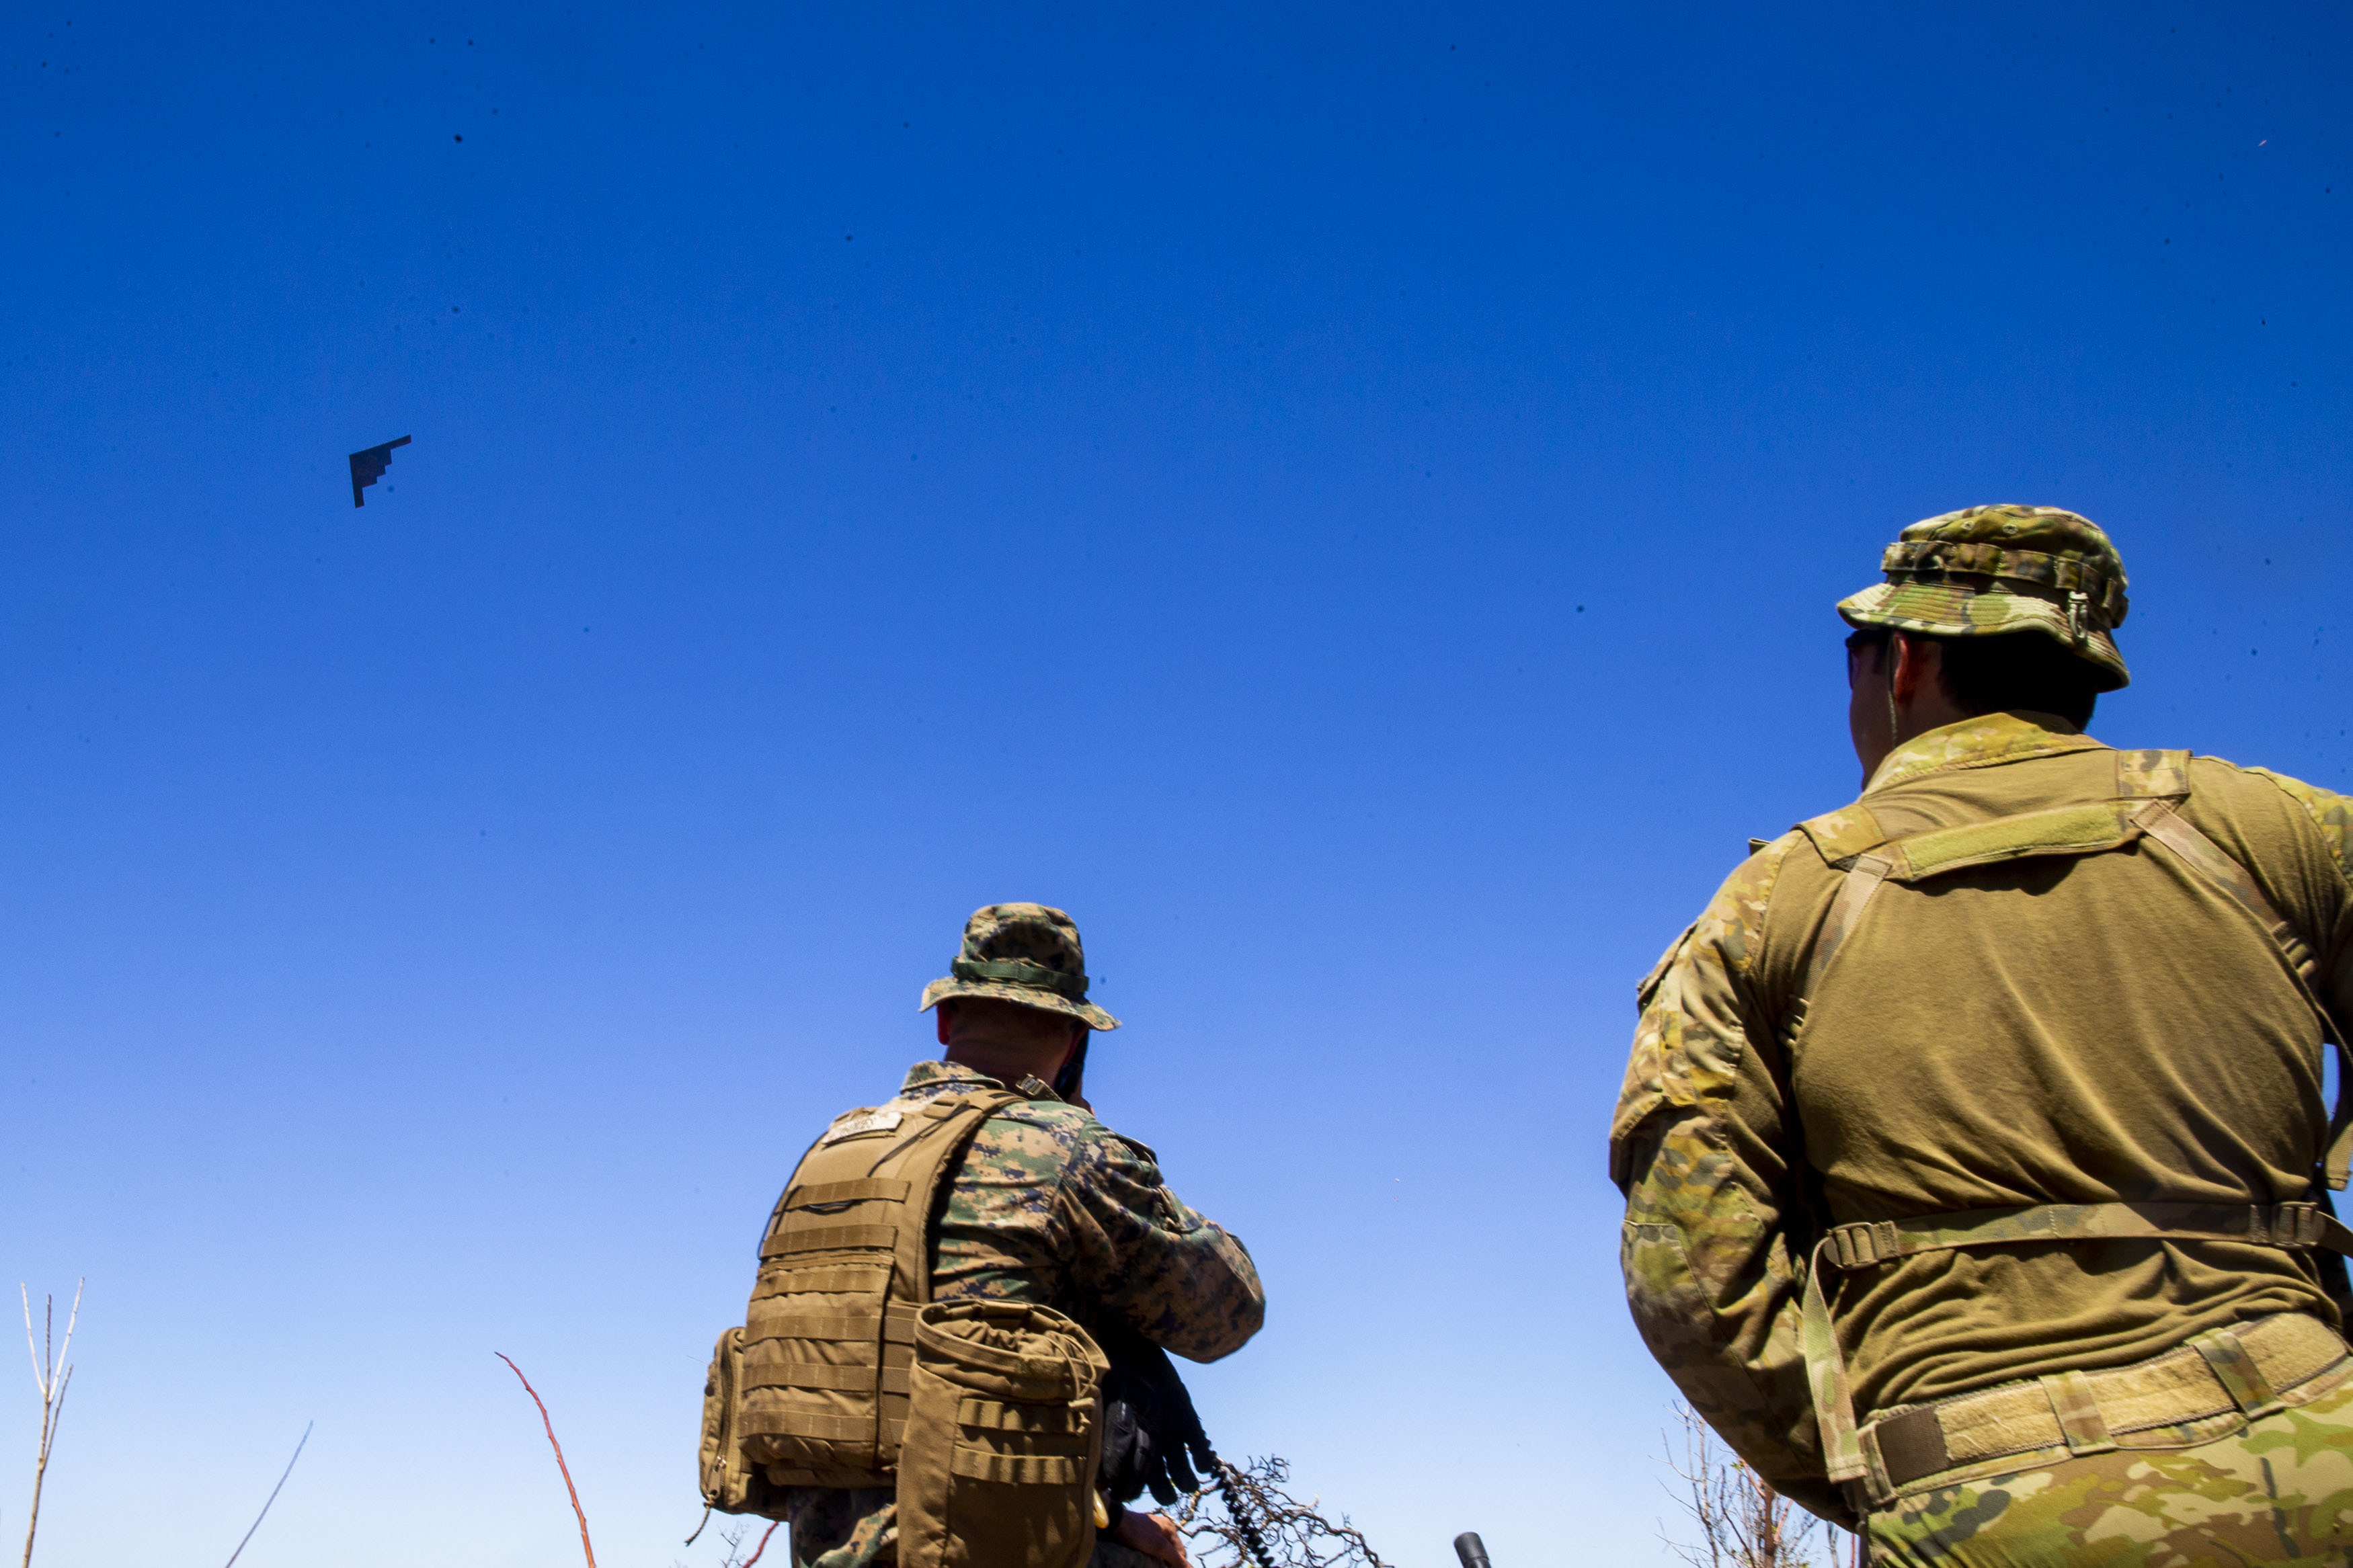B2: (348, 434, 411, 509)
